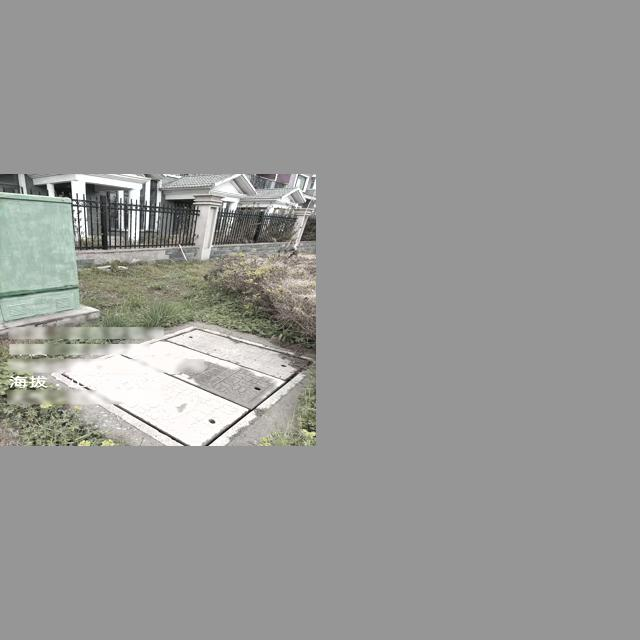good: (50, 325, 316, 445)
